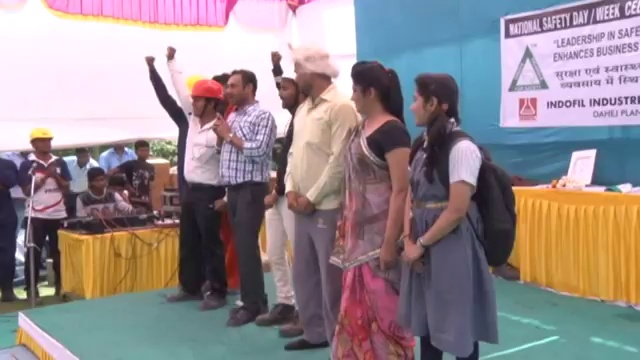helmet: (189, 77, 225, 101), (25, 127, 55, 144)
helmet_off: (345, 60, 395, 120), (407, 72, 460, 124), (220, 70, 258, 113), (300, 48, 335, 94), (86, 168, 108, 196), (131, 139, 150, 168), (70, 150, 89, 169)
helmet_on: (188, 77, 225, 126), (25, 127, 57, 166), (276, 63, 300, 110)
person: (402, 69, 517, 360), (334, 51, 411, 360), (269, 50, 348, 351), (209, 65, 280, 332), (163, 78, 237, 305), (266, 61, 306, 336), (19, 127, 70, 313), (0, 156, 24, 307), (116, 138, 156, 219), (74, 168, 128, 220), (62, 148, 98, 194), (98, 144, 136, 172)
